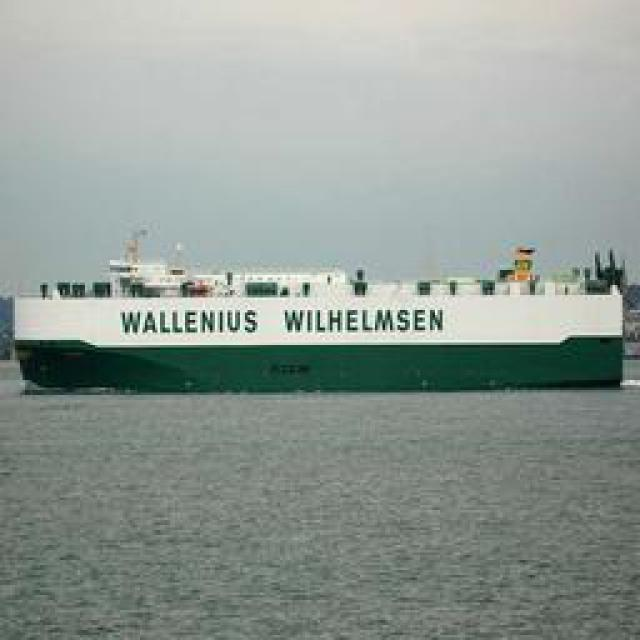Ship: (14, 217, 624, 397)
